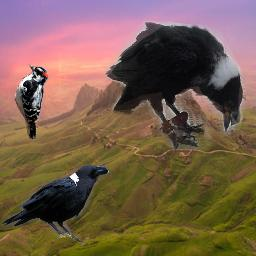Crow: (105, 21, 246, 150), (1, 165, 110, 243)
Woodpecker: (14, 64, 49, 139)
